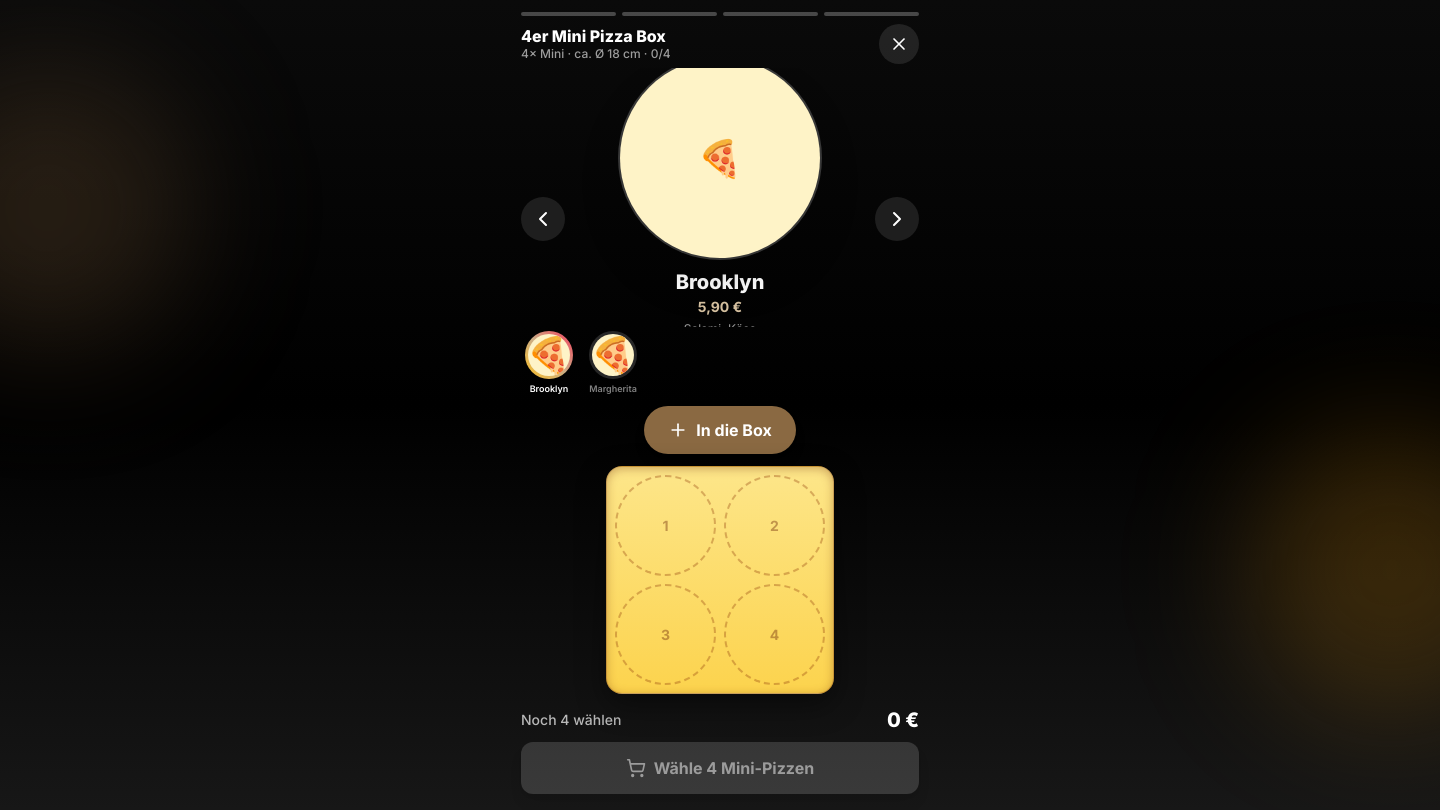
MiniPizzaBoxBuilder — 4er Mini Pizza Box › zeigt ALLE Sorten als Thumbnail-Leiste; Tap springt direkt zur Sorte
Expected: the button with aria-label "Sorte wählen: Brooklyn" is shown, left=521, top=331, right=577, bottom=394
// Tap auf Margherita-Thumbnail → Karussell zeigt Margherita (Mini-Preis 4,90 €).
Click the button with aria-label "Sorte wählen: Margherita" at (613, 362), box left=585, top=331, right=641, bottom=394
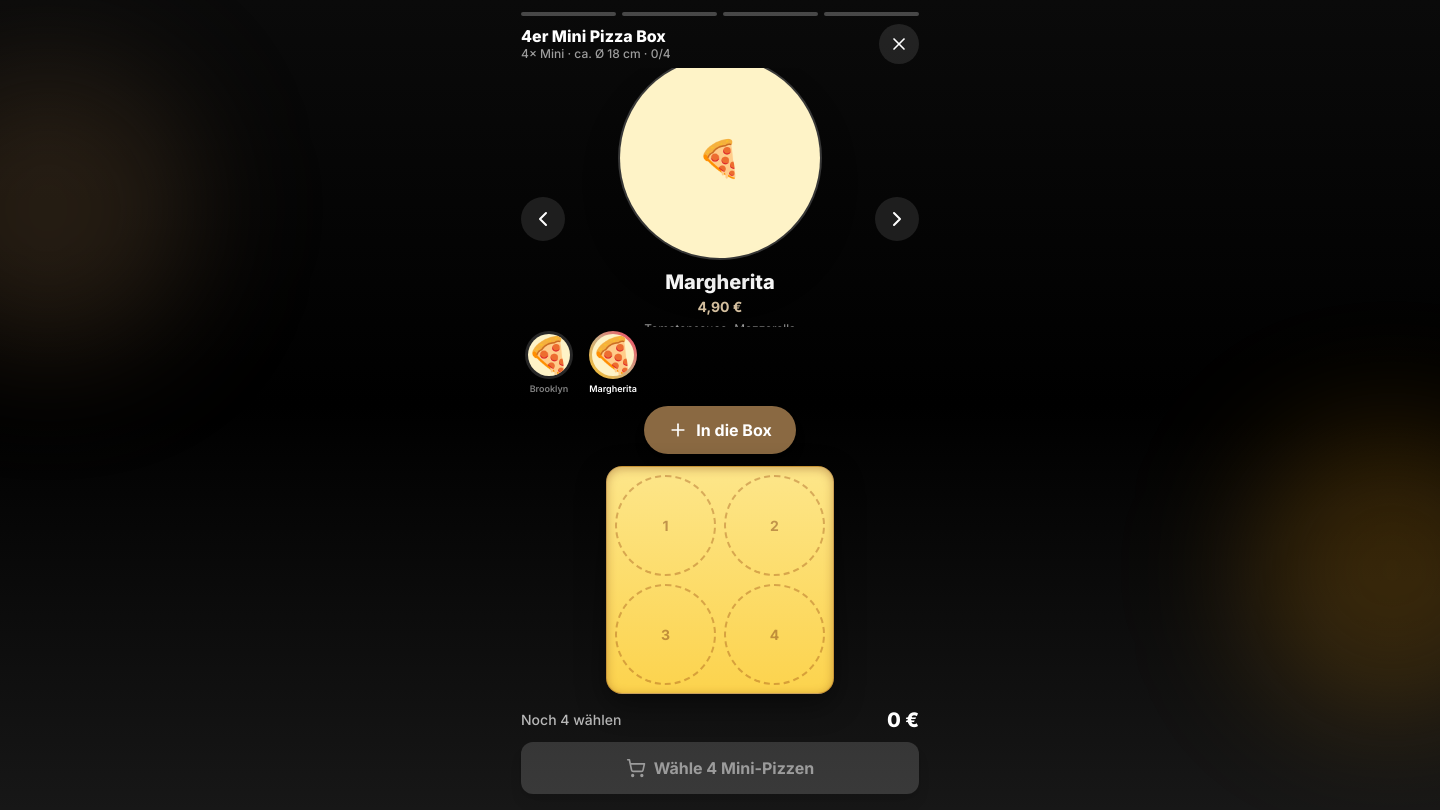
Now the text "4,90 €" is shown, box left=698, top=298, right=742, bottom=315
